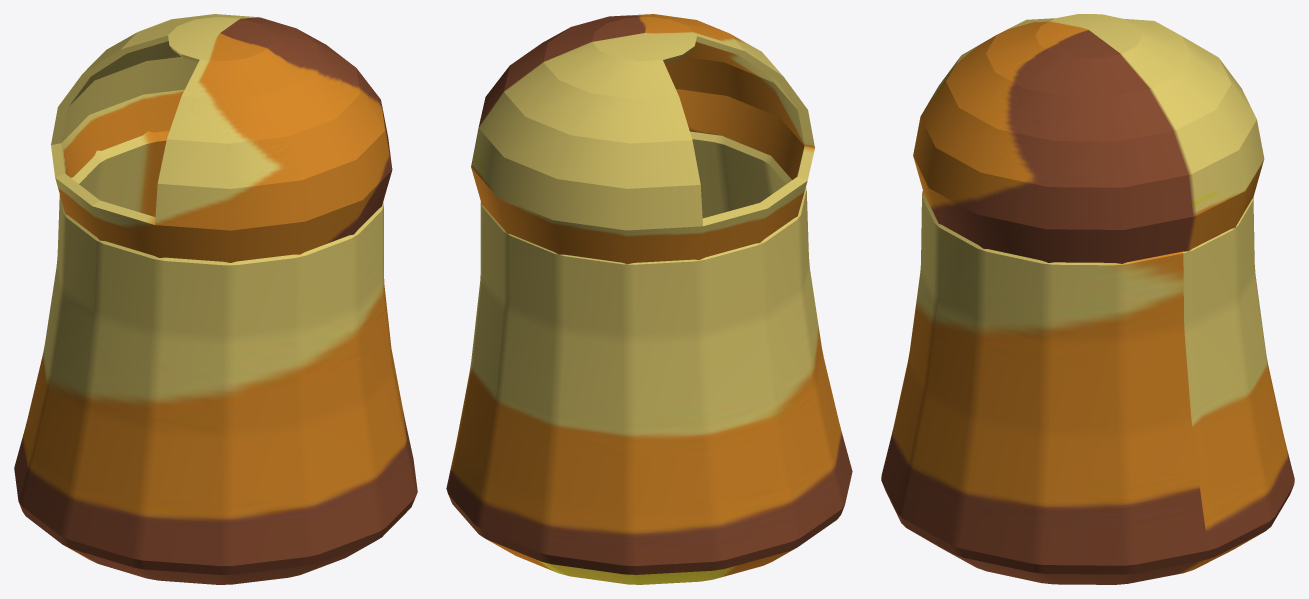
File: bin.fbx
3 renders of one model, left to right at view 1: azimuth 30°, elevation 25°; view 2: azimuth 150°, elevation 25°; view 3: azimuth 270°, elevation 25°, orthographic.
Parts seen in each view (by area): view 1: bin, bin_lid1; view 2: bin, bin_lid1; view 3: bin, bin_lid1.
Part boxes in pixels (x1,y1,x2,y2): bin: [14, 130, 417, 584]; bin_lid1: [51, 14, 392, 262]; bin: [446, 131, 852, 584]; bin_lid1: [471, 14, 814, 264]; bin: [881, 191, 1294, 584]; bin_lid1: [913, 14, 1264, 263].
Bounding box in the file's own units: 5.33 × 7.1 × 5.41.
